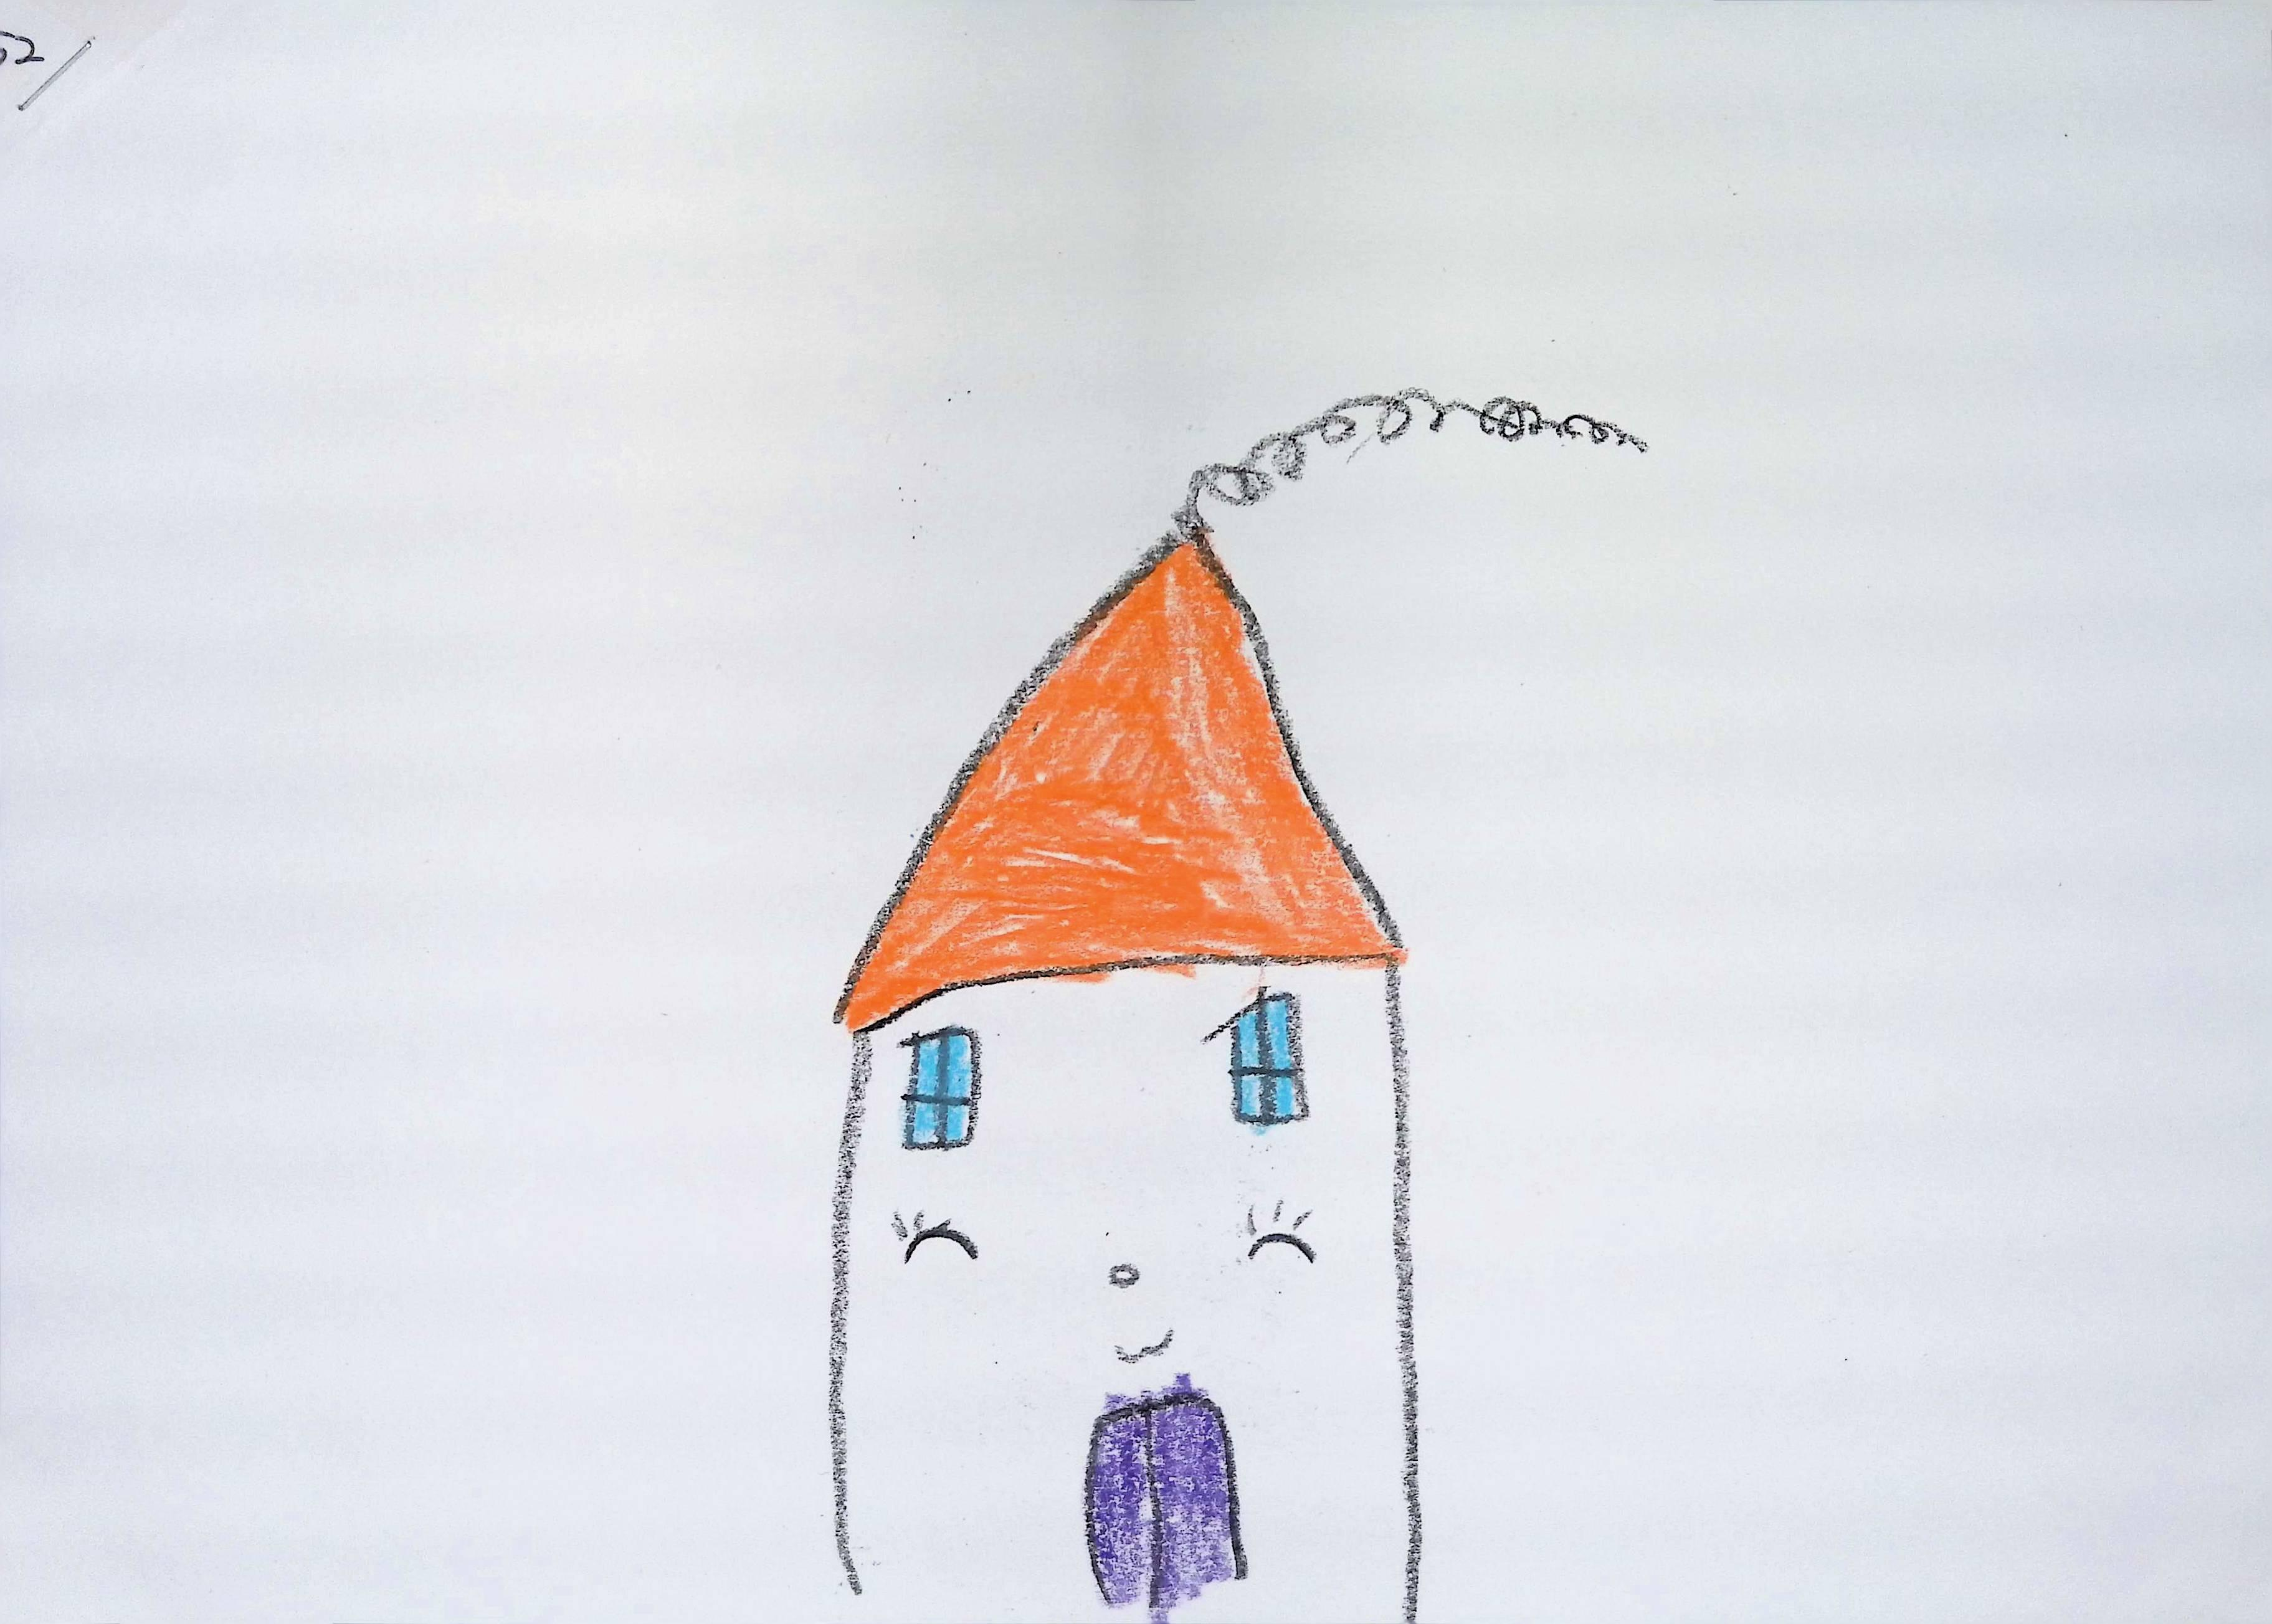door: (1086, 1376, 1248, 1624)
house: (828, 510, 1422, 1622)
roof: (838, 533, 1402, 1032)
wall: (831, 960, 1418, 1624)
window: (1230, 993, 1311, 1125), (900, 1025, 979, 1149)
